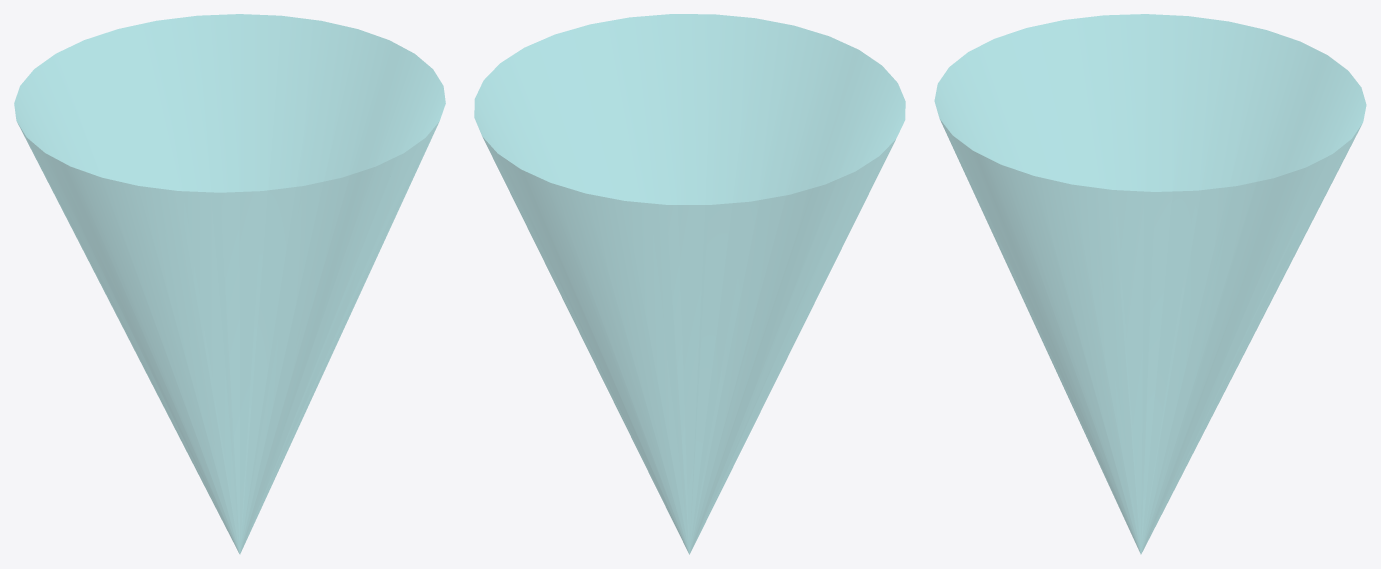
File: lazer hologram puzzle lock hologram light projector from the base to display full screen of hologram.fbx
3 views of the same model, side by side, from view 1: azimuth 30°, elevation 25°; view 2: azimuth 150°, elevation 25°; view 3: azimuth 270°, elevation 25° (orthographic).
Parts seen in each view (by area): view 1: fef421f8-ee87-456b-8630-d1964a910ce9; view 2: fef421f8-ee87-456b-8630-d1964a910ce9; view 3: fef421f8-ee87-456b-8630-d1964a910ce9.
Part boxes in pixels (x1,y1,x2,y2): fef421f8-ee87-456b-8630-d1964a910ce9: (14,14,445,553); fef421f8-ee87-456b-8630-d1964a910ce9: (474,14,905,554); fef421f8-ee87-456b-8630-d1964a910ce9: (934,14,1366,553).
Size of the model in its own units: 20201 by 23408 by 20199.
